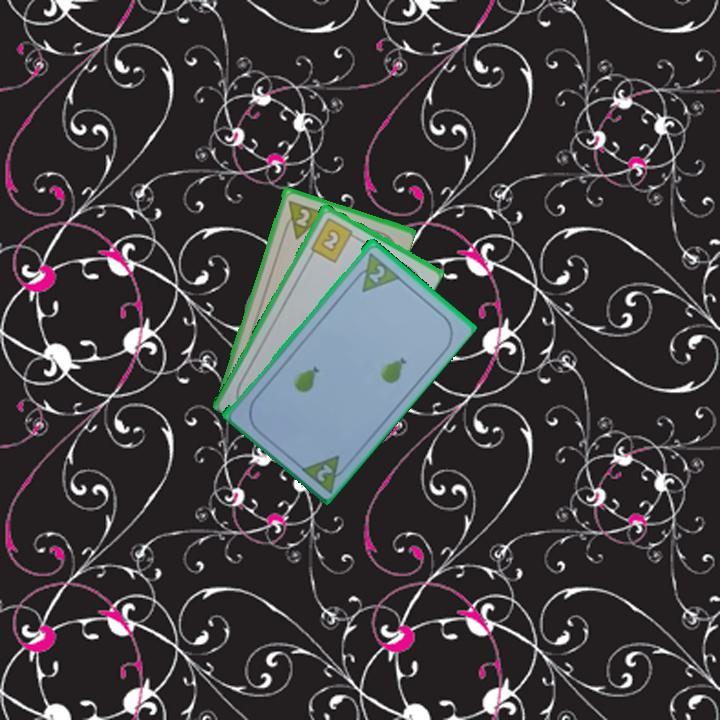2b: (307, 214, 360, 265)
2p: (296, 451, 352, 495), (279, 196, 327, 242), (365, 261, 388, 286)
